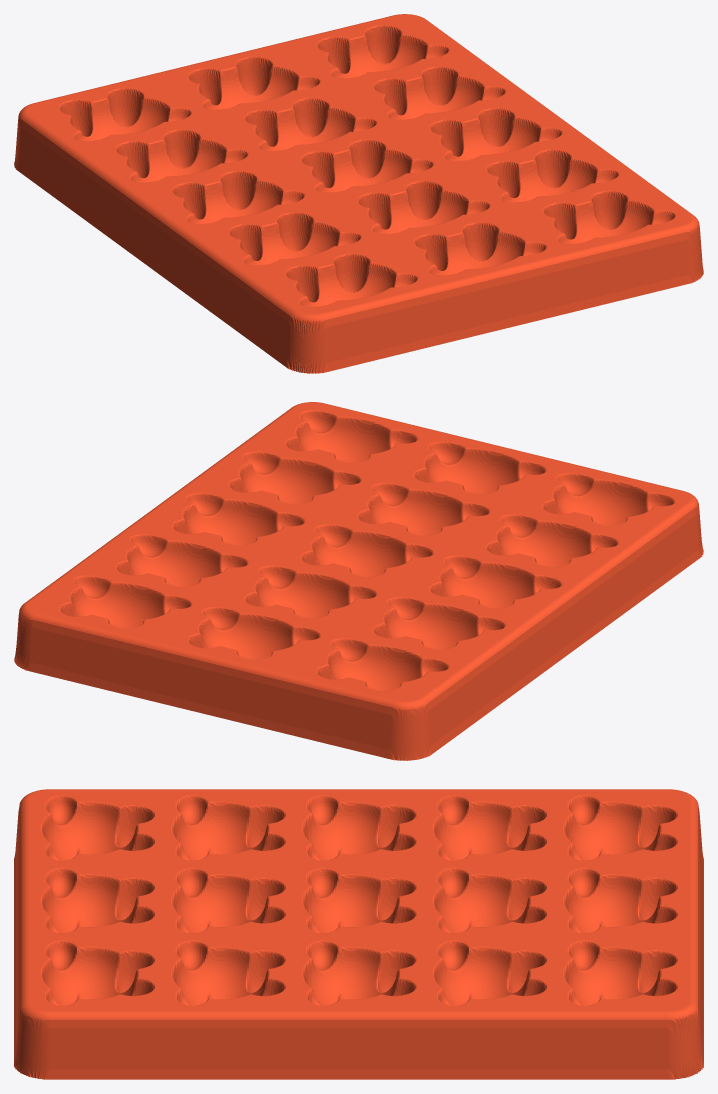
The model's file is mold.glb.
3 renders of one model, top to bottom at view 1: azimuth 30°, elevation 25°; view 2: azimuth 150°, elevation 25°; view 3: azimuth 270°, elevation 25°, orthographic. The views are drawn at different scales.
Parts seen in each view (by area): view 1: geometry_0; view 2: geometry_0; view 3: geometry_0.
Part boxes in pixels (x1=…): geometry_0: x1=14, y1=14, x2=703, y2=373; geometry_0: x1=14, y1=402, x2=703, y2=760; geometry_0: x1=14, y1=789, x2=703, y2=1079.
Bounding box in the file's own units: 0.1392 × 0.0174 × 0.174.
